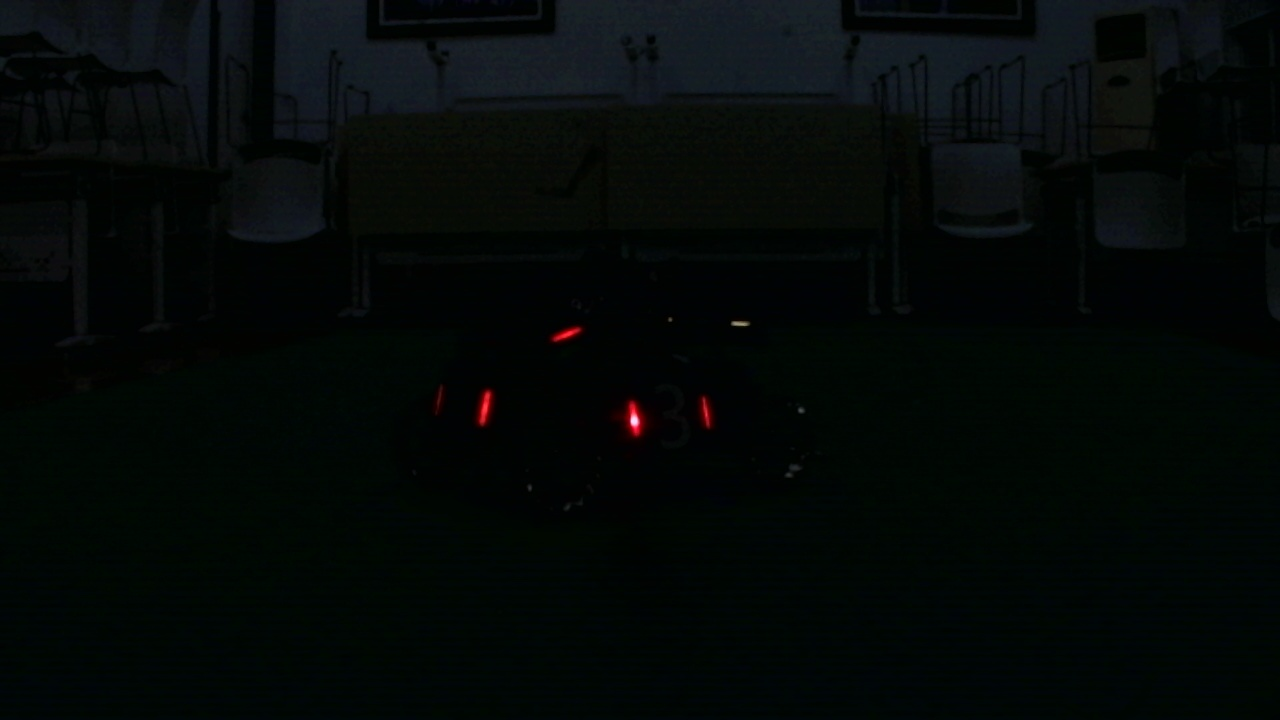lamp: (624, 403, 644, 438), (477, 384, 494, 423), (700, 394, 712, 432)
pair1: (626, 397, 713, 438)
